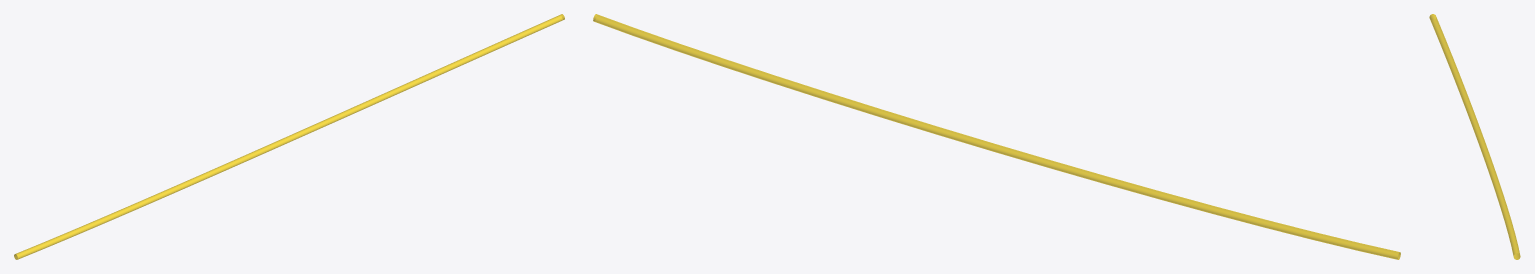
File: Event_27938768_track_74.fbx
The picture shows the model from 3 angles, left to right: view 1: azimuth 30°, elevation 25°; view 2: azimuth 150°, elevation 25°; view 3: azimuth 270°, elevation 25°; orthographic projection. The views are drawn at different scales.
Visible parts, largest first — view 1: Model; view 2: Model; view 3: Model.
Boxes of the visible parts, box(x1,y1,x2,y2) form: Model: box(14, 14, 564, 259); Model: box(593, 14, 1400, 259); Model: box(1429, 14, 1520, 259).
Size of the model in its own units: 4.34 by 0.5326 by 0.527.
